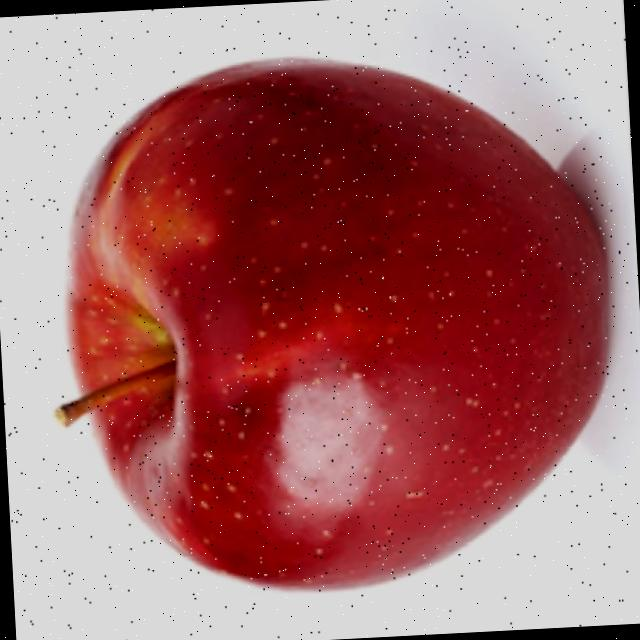Ripe: (40, 35, 630, 614)
